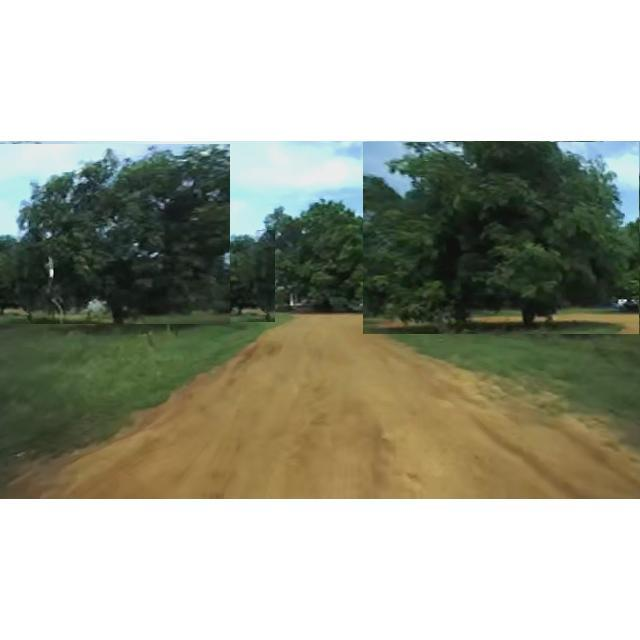tree: (363, 142, 639, 334), (0, 144, 230, 324), (252, 194, 406, 316), (193, 230, 275, 322)
